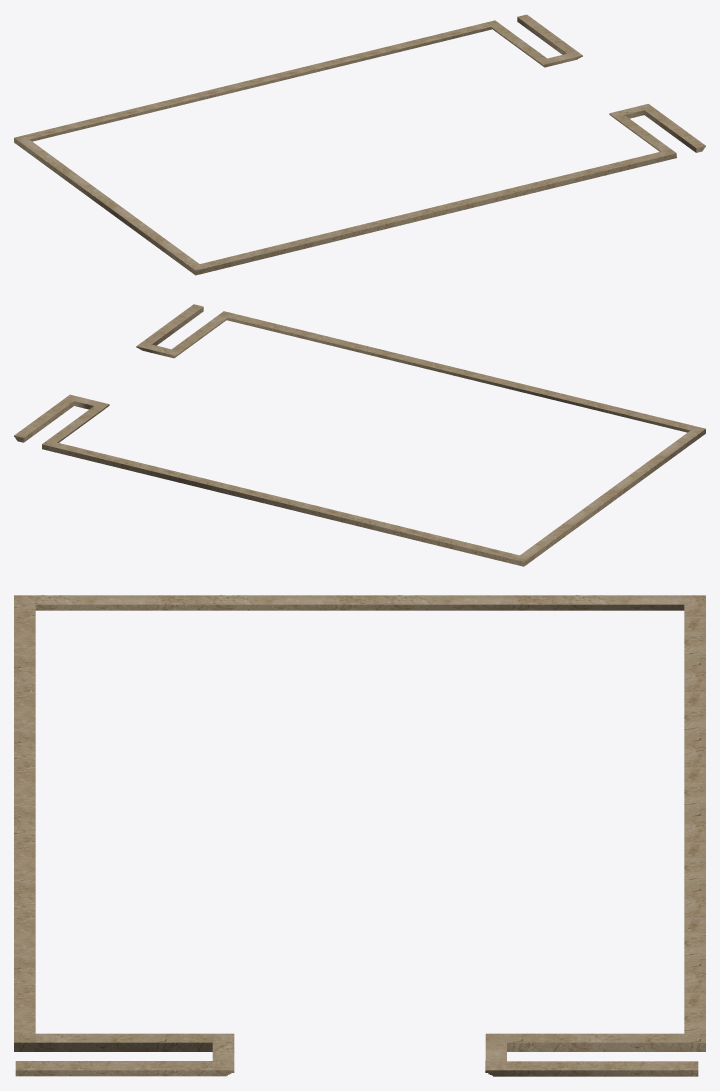
Rendered from stone_column_979.fbx.
3 renders of one model, top to bottom at view 1: azimuth 30°, elevation 25°; view 2: azimuth 150°, elevation 25°; view 3: azimuth 270°, elevation 25°, orthographic. The views are drawn at different scales.
Visible parts, largest first — view 1: stone_column_979; view 2: stone_column_979; view 3: stone_column_979.
Part boxes in pixels (<box>): stone_column_979: <box>14,14,705,275</box>; stone_column_979: <box>14,304,705,566</box>; stone_column_979: <box>14,595,705,1076</box>.
Bounding box in the file's own units: 1894 × 17.14 × 1166.
